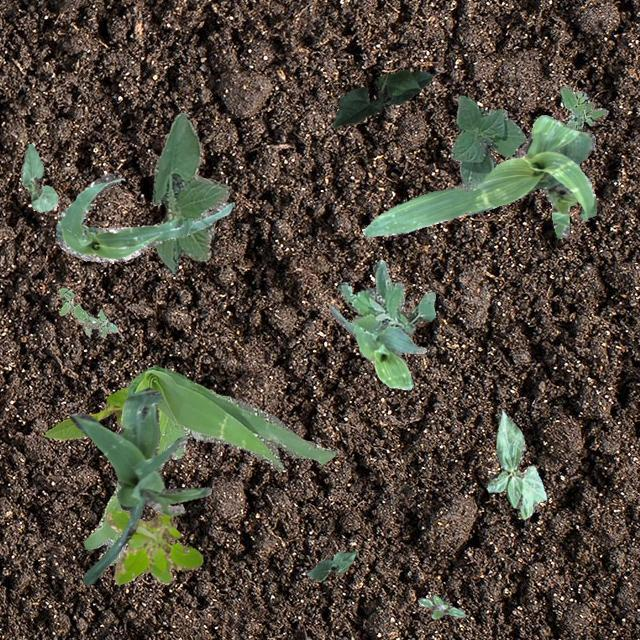crop: (360, 114, 596, 238), (70, 386, 210, 584), (55, 172, 232, 260), (150, 111, 228, 272), (330, 304, 426, 388), (450, 94, 526, 190), (486, 410, 546, 518), (332, 68, 432, 126), (42, 386, 128, 439), (19, 142, 56, 212), (306, 550, 356, 580)
weed: (82, 364, 336, 564), (336, 258, 434, 334), (105, 508, 202, 584), (57, 286, 116, 338), (560, 84, 608, 128), (418, 594, 464, 618)
